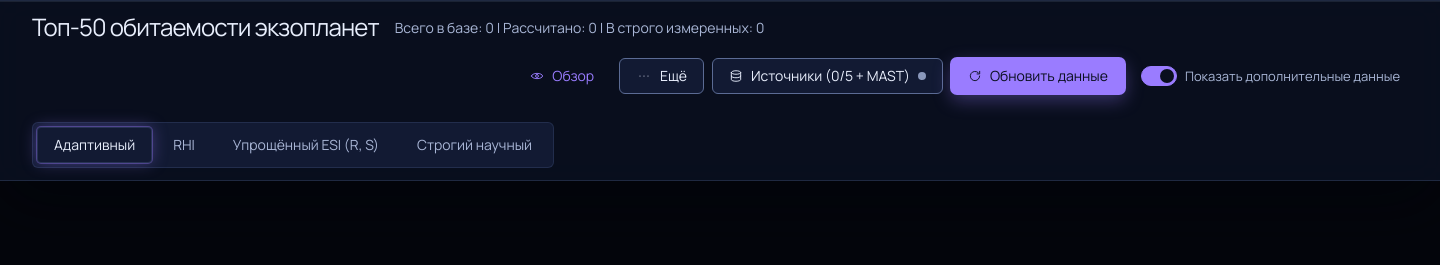
Scenario: действия шапки › меню «Ещё»: пункты «CSV», «Ссылка» и «Методика» недоступны без действия
Click the button "Ещё".
click(662, 76)  # box top-left (619, 58), bottom-right (704, 94)
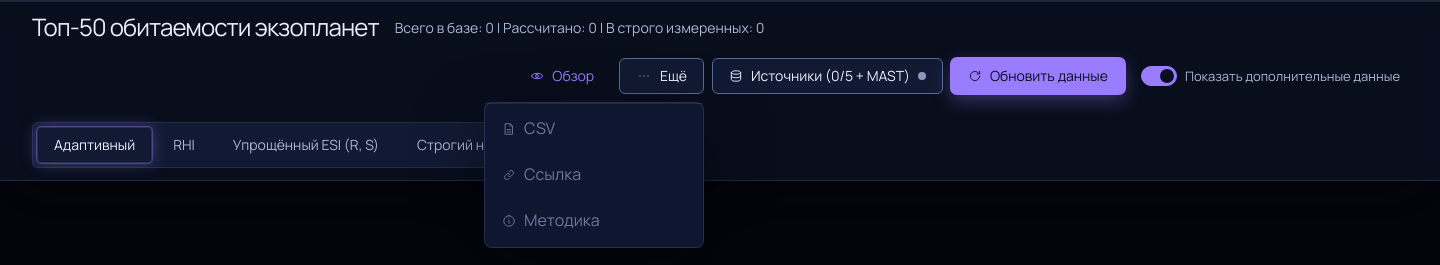
Result: the menu item "CSV" is disabled at top-left (489, 107), bottom-right (699, 151)
Result: the menu item "Ссылка" is disabled at top-left (489, 153), bottom-right (699, 197)
Result: the menu item "Методика" is disabled at top-left (489, 199), bottom-right (699, 243)
